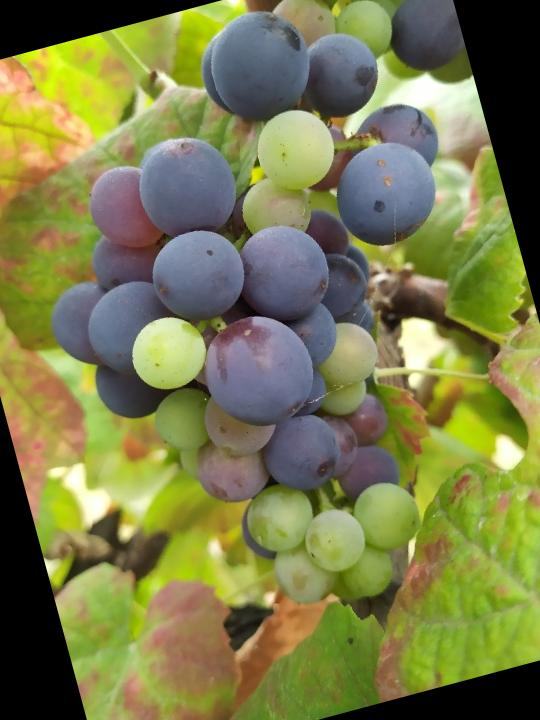grape: (8, 95, 455, 663)
